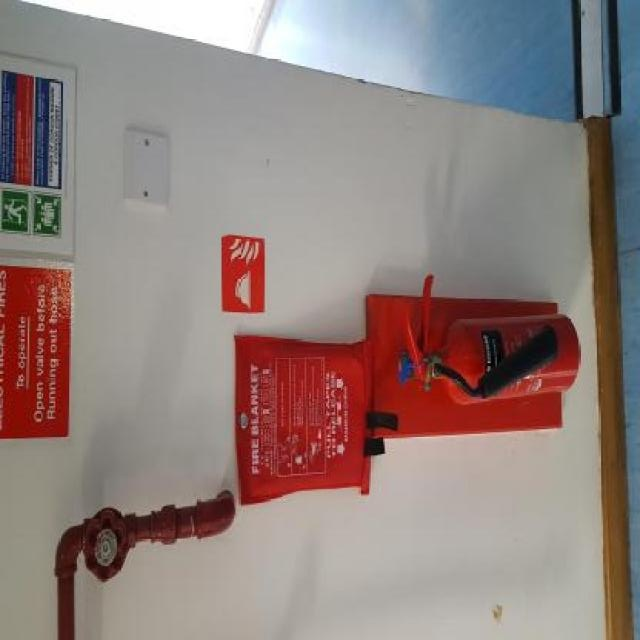fire extinguisher: (400, 273, 582, 404)
